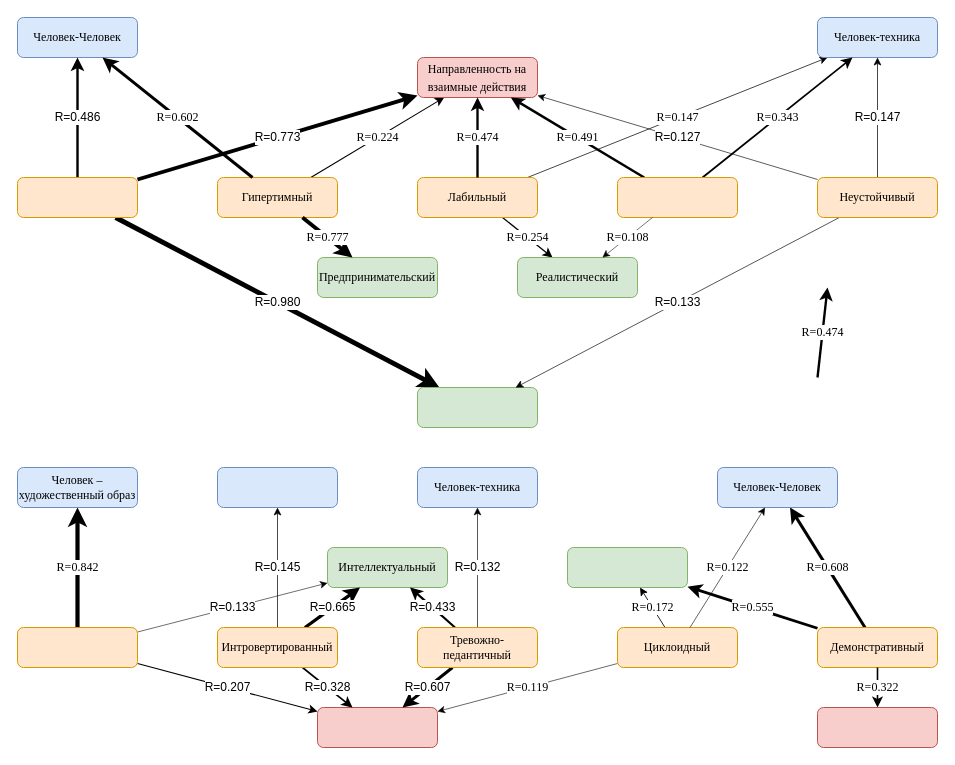
Some shapes in this 955 by 765 pixel diagram are drawn without their labels. Here are the shapes that lost their labels. From the top down, the centre of each, then its label:
At (x=77, y=197): "Возбудимый".
At (x=677, y=197): "Астено-невротический".
At (x=477, y=407): "Социальный".
At (x=277, y=487): "Человек – природа".
At (x=627, y=567): "Артистический".
At (x=77, y=647): "Сенситивный".
At (x=377, y=727): "Н аправленность на задачу".
At (x=877, y=727): "Направленность на себя".
